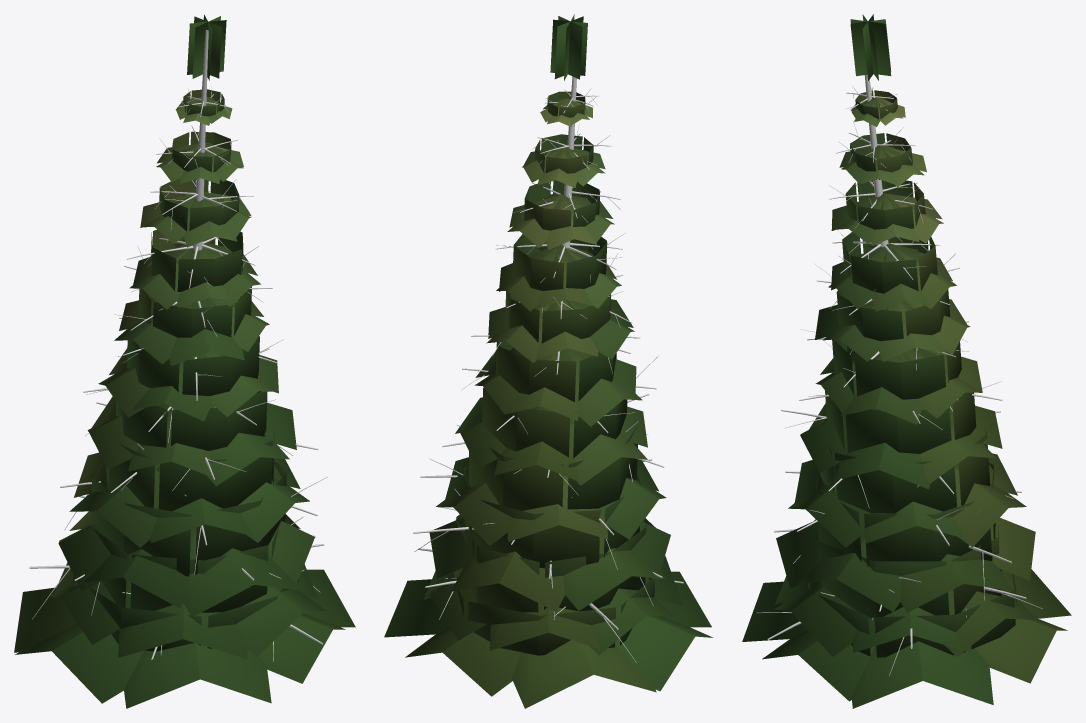
Rendered from spruce.glb.
3 views of the same model, side by side, from view 1: azimuth 30°, elevation 25°; view 2: azimuth 150°, elevation 25°; view 3: azimuth 270°, elevation 25° (orthographic). The views are drawn at different scales.
Visible parts, largest first — view 1: isl_spruce; view 2: isl_spruce; view 3: isl_spruce.
Boxes of the visible parts, left/top/right/bottom form: isl_spruce: left=14, top=14, right=355, bottom=708; isl_spruce: left=384, top=14, right=713, bottom=708; isl_spruce: left=742, top=14, right=1071, bottom=708.
Bounding box in the file's own units: 6.32 × 13.31 × 6.4.
